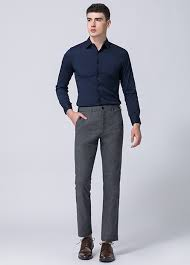F_dress pants: (70, 101, 122, 241)
F_shirt: (51, 29, 146, 132)
